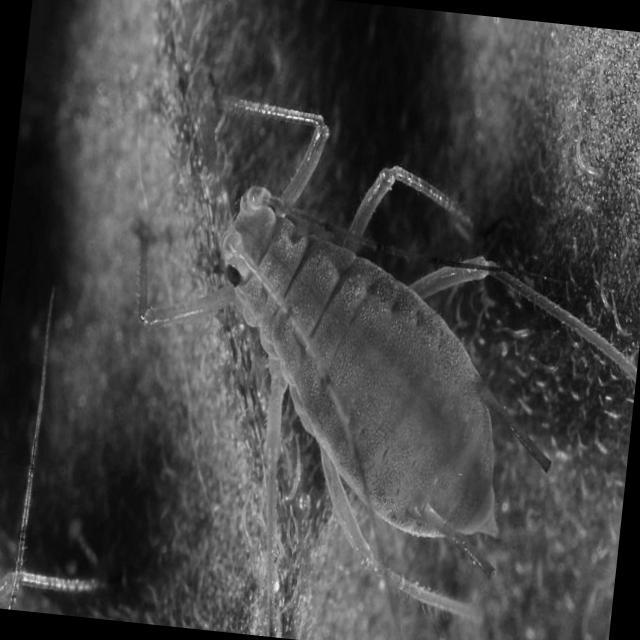Aphids: (82, 64, 610, 606)
